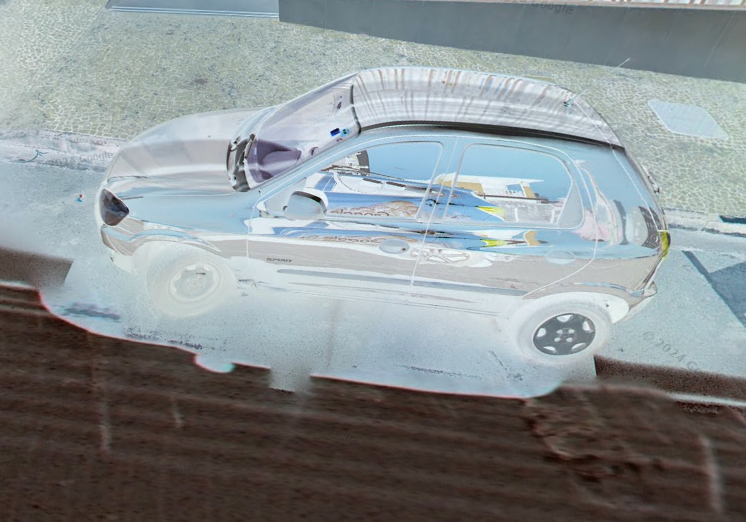car: (96, 57, 672, 367)
